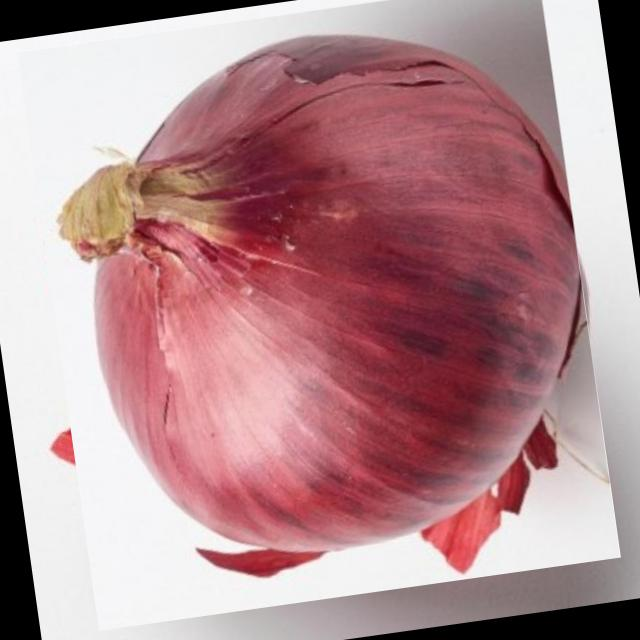Onion: (5, 0, 633, 618)
